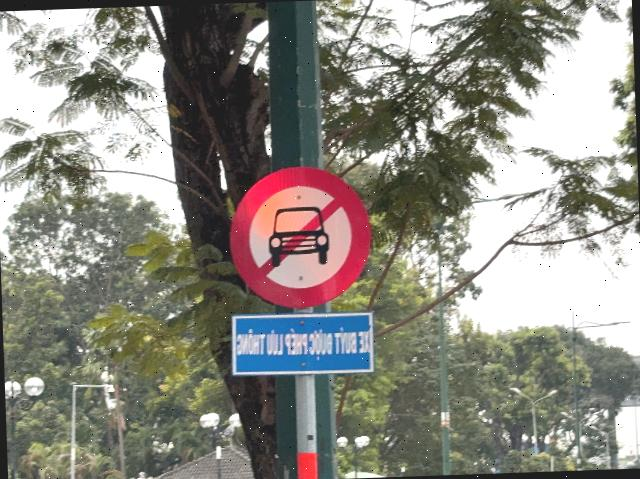cam-o-to: (228, 165, 374, 312)
